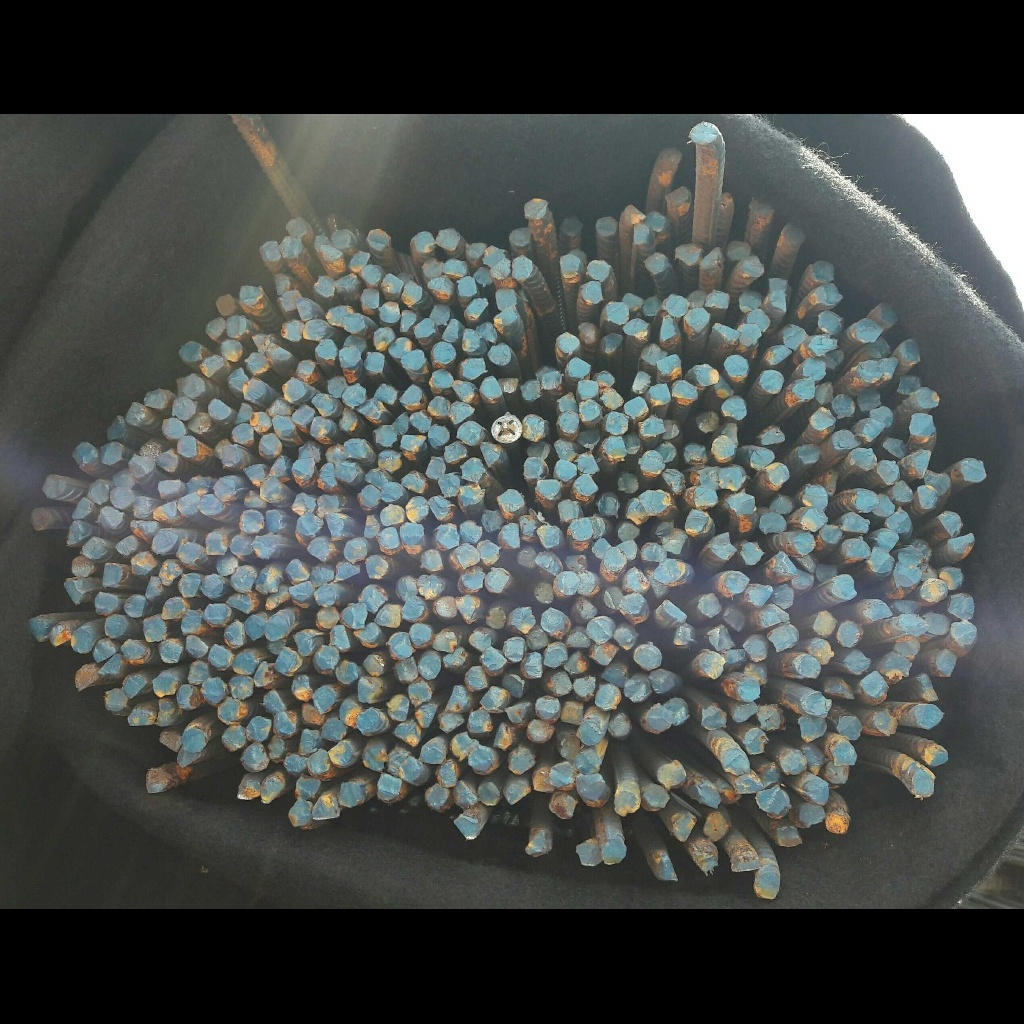dipstick: (217, 697, 247, 726), (377, 773, 406, 803), (769, 623, 799, 652), (327, 739, 355, 768), (756, 788, 786, 815), (580, 781, 610, 807), (241, 743, 268, 771), (905, 450, 932, 478), (948, 592, 975, 620), (273, 710, 299, 739), (361, 584, 387, 613), (798, 715, 827, 741), (655, 559, 685, 584), (672, 812, 697, 842), (296, 512, 323, 539), (75, 663, 101, 691), (221, 724, 247, 752), (374, 603, 402, 629), (468, 746, 496, 772), (549, 763, 577, 789), (260, 775, 285, 804), (801, 693, 831, 717), (246, 716, 272, 743), (357, 708, 384, 734), (388, 632, 414, 659), (549, 793, 576, 819), (658, 762, 685, 788), (723, 748, 750, 774), (924, 470, 951, 496), (594, 684, 622, 709), (699, 651, 724, 679), (659, 601, 687, 626), (937, 510, 962, 538), (288, 798, 312, 827), (481, 686, 507, 712), (576, 839, 602, 865), (759, 704, 785, 730), (710, 533, 736, 559), (527, 829, 552, 856), (426, 783, 451, 810), (362, 745, 387, 772), (458, 483, 485, 508), (508, 749, 535, 774), (603, 547, 628, 574), (634, 644, 661, 669), (692, 842, 717, 869), (744, 634, 769, 661), (950, 620, 977, 645), (338, 783, 366, 807), (452, 733, 476, 761), (642, 490, 670, 514), (920, 578, 948, 602), (760, 604, 790, 626), (73, 441, 98, 467), (358, 677, 384, 702), (587, 618, 613, 643), (647, 705, 673, 730), (794, 654, 820, 679), (805, 779, 830, 805), (872, 709, 897, 735), (885, 509, 911, 534), (915, 704, 941, 729), (232, 565, 256, 592), (122, 640, 149, 664), (121, 674, 148, 698), (209, 643, 233, 670), (229, 674, 253, 701), (405, 495, 429, 522), (457, 421, 484, 445), (511, 607, 535, 634), (541, 607, 565, 634), (536, 551, 563, 575), (498, 489, 525, 513), (624, 567, 651, 591), (862, 672, 889, 696), (307, 539, 335, 562), (457, 594, 480, 622), (590, 642, 618, 665), (854, 319, 882, 342), (857, 418, 885, 441), (705, 812, 727, 841), (809, 335, 838, 357), (227, 593, 257, 614), (265, 509, 290, 534), (454, 815, 479, 840), (342, 382, 367, 407), (417, 574, 442, 599), (481, 647, 506, 672), (602, 839, 627, 864), (758, 762, 783, 787), (672, 380, 697, 405), (869, 548, 894, 573), (837, 621, 862, 646), (202, 677, 226, 703), (177, 684, 201, 710), (313, 687, 337, 713), (275, 649, 299, 675), (331, 626, 357, 650), (285, 559, 309, 585), (460, 458, 486, 482), (803, 484, 827, 510), (844, 649, 870, 673), (237, 772, 260, 799), (343, 602, 366, 629), (437, 710, 464, 733), (526, 720, 553, 743), (523, 415, 546, 442), (727, 493, 754, 516), (800, 508, 827, 531), (808, 637, 831, 664), (309, 749, 331, 777), (455, 780, 477, 808), (849, 448, 877, 470), (899, 614, 927, 636), (225, 620, 246, 649), (131, 552, 156, 576), (199, 574, 223, 599), (182, 728, 207, 752), (296, 775, 320, 800), (292, 493, 317, 517), (399, 757, 423, 782), (446, 685, 470, 710), (576, 750, 601, 774), (544, 642, 568, 667), (754, 875, 779, 899), (708, 625, 733, 649), (724, 607, 749, 631), (625, 498, 649, 523), (718, 466, 743, 490), (759, 370, 784, 394), (774, 552, 798, 577), (833, 574, 857, 599), (836, 716, 861, 740), (800, 803, 825, 827), (885, 652, 909, 677), (420, 741, 446, 764), (429, 496, 452, 522), (504, 781, 530, 804), (667, 698, 690, 724), (685, 510, 708, 536), (817, 311, 843, 334), (204, 604, 231, 626), (920, 675, 942, 702), (690, 123, 718, 144), (841, 513, 869, 534), (731, 850, 760, 870), (913, 769, 933, 798), (143, 618, 167, 642), (146, 768, 170, 792), (263, 690, 287, 714), (316, 645, 340, 669), (335, 660, 359, 684), (282, 378, 306, 402), (396, 722, 420, 746), (436, 524, 460, 548), (640, 450, 664, 474), (662, 529, 686, 553), (626, 678, 650, 702), (651, 669, 675, 693), (614, 791, 638, 815), (204, 531, 227, 556), (240, 510, 265, 533), (177, 573, 200, 598), (71, 628, 94, 653), (431, 342, 456, 365), (457, 543, 480, 568), (468, 710, 493, 733), (464, 666, 489, 689), (486, 569, 511, 592), (578, 721, 603, 744), (524, 457, 549, 480), (604, 435, 627, 460), (644, 784, 669, 807), (702, 706, 727, 729), (663, 470, 686, 495), (832, 394, 855, 419), (844, 537, 869, 560), (824, 760, 849, 783), (961, 458, 986, 481), (97, 506, 123, 528), (161, 597, 187, 619), (387, 696, 409, 722), (429, 277, 455, 299), (436, 760, 458, 786), (326, 305, 352, 327), (521, 652, 543, 678), (537, 367, 563, 389), (745, 728, 767, 754), (714, 323, 740, 345), (935, 650, 956, 677), (292, 673, 312, 701), (893, 567, 921, 587), (182, 374, 205, 398), (130, 455, 154, 478), (42, 475, 65, 499), (181, 611, 204, 635), (105, 615, 129, 638), (160, 729, 183, 753), (260, 478, 283, 502), (344, 538, 367, 562), (437, 228, 461, 251), (433, 629, 457, 652), (480, 376, 503, 400), (557, 571, 580, 595), (537, 525, 560, 549), (578, 322, 601, 346), (606, 301, 629, 325), (609, 713, 632, 737), (697, 784, 721, 807), (765, 464, 789, 487), (684, 444, 708, 467), (711, 435, 735, 458), (816, 283, 840, 306), (833, 741, 856, 765), (939, 567, 963, 590), (151, 530, 176, 552), (95, 592, 117, 617), (153, 674, 178, 696), (244, 614, 266, 639), (266, 616, 288, 641), (232, 422, 254, 447), (373, 326, 395, 351), (419, 654, 441, 679), (464, 298, 489, 320), (724, 572, 749, 594), (750, 449, 775, 471), (722, 397, 747, 419), (685, 308, 710, 330), (746, 310, 771, 332), (781, 752, 806, 774), (877, 460, 899, 485), (198, 495, 224, 516), (64, 578, 85, 604), (232, 653, 258, 674), (314, 798, 340, 819), (401, 473, 427, 494), (396, 575, 417, 601), (641, 344, 667, 365), (760, 512, 786, 533), (909, 414, 935, 435), (864, 600, 891, 620), (156, 449, 179, 472), (29, 507, 52, 530), (29, 618, 52, 641), (290, 580, 313, 603), (366, 555, 389, 578), (536, 697, 559, 720), (566, 651, 589, 674), (570, 518, 593, 541), (495, 306, 518, 329), (783, 326, 806, 349), (855, 489, 878, 512), (172, 398, 196, 420), (110, 487, 134, 509), (159, 641, 183, 663), (272, 416, 296, 438), (343, 439, 367, 461), (393, 658, 417, 680), (453, 380, 477, 402), (561, 702, 583, 726), (656, 857, 678, 881), (738, 678, 760, 702), (724, 355, 748, 377), (875, 302, 899, 324), (811, 407, 835, 429), (814, 611, 836, 635), (897, 546, 921, 568), (926, 612, 950, 634), (924, 744, 948, 766), (200, 355, 225, 376), (268, 342, 293, 363), (106, 415, 127, 440), (161, 418, 186, 439), (153, 501, 178, 522), (124, 593, 145, 618), (257, 572, 282, 593), (318, 463, 339, 488), (478, 541, 499, 566), (624, 318, 649, 339), (640, 415, 665, 436), (917, 485, 938, 510), (143, 388, 169, 408), (326, 514, 346, 540), (536, 479, 562, 499), (766, 345, 792, 365), (833, 430, 860, 449), (226, 315, 248, 338), (188, 412, 211, 434), (178, 493, 201, 515), (230, 534, 253, 556), (105, 689, 128, 711), (322, 719, 345, 741), (260, 434, 283, 456), (381, 504, 404, 526), (378, 450, 401, 472), (421, 549, 444, 571), (413, 318, 436, 340), (408, 680, 430, 703), (460, 520, 482, 543), (488, 343, 511, 365), (549, 671, 571, 694), (699, 593, 721, 616), (740, 542, 762, 565), (696, 364, 719, 386), (792, 378, 815, 400), (870, 405, 892, 428), (793, 532, 815, 555), (281, 320, 305, 341), (81, 537, 105, 558), (127, 708, 155, 726), (293, 632, 314, 656), (219, 445, 243, 466), (359, 485, 380, 509), (366, 229, 390, 250), (382, 272, 403, 296), (388, 338, 412, 359), (479, 782, 500, 806), (503, 674, 524, 698), (565, 627, 589, 648), (555, 440, 579, 461), (567, 357, 591, 378), (677, 244, 701, 265), (695, 410, 719, 431), (748, 585, 772, 606), (773, 584, 794, 608), (916, 387, 940, 408), (68, 519, 88, 544), (103, 563, 123, 588), (402, 282, 422, 307), (481, 442, 501, 467), (504, 637, 524, 662), (810, 261, 835, 281), (736, 774, 762, 793), (129, 520, 158, 537), (280, 290, 302, 312), (133, 496, 155, 518), (315, 339, 337, 361), (360, 264, 382, 286), (374, 384, 396, 406), (577, 452, 599, 474), (606, 412, 628, 434), (601, 387, 623, 409), (739, 290, 761, 312), (804, 358, 826, 380), (239, 286, 262, 307), (180, 341, 203, 362), (227, 368, 248, 391), (244, 378, 265, 401), (208, 398, 231, 419), (177, 541, 200, 562), (72, 556, 95, 577), (185, 637, 208, 658), (188, 662, 211, 683), (316, 607, 339, 628), (314, 586, 337, 607), (254, 536, 275, 559), (292, 458, 315, 479), (379, 527, 400, 550), (400, 523, 423, 544), (339, 345, 360, 368), (360, 398, 383, 419), (374, 425, 397, 446), (401, 597, 424, 618), (416, 704, 437, 727), (444, 442, 467, 463), (451, 402, 474, 423), (476, 322, 497, 345), (575, 474, 598, 495), (598, 493, 619, 516), (578, 400, 601, 421), (496, 288, 517, 311), (559, 255, 580, 278), (587, 260, 610, 281), (666, 186, 689, 207), (667, 294, 688, 317), (620, 593, 643, 614), (738, 323, 761, 344), (952, 533, 975, 554), (402, 350, 426, 370), (443, 647, 467, 667), (426, 456, 446, 480), (462, 358, 486, 378), (528, 625, 548, 649), (511, 256, 531, 280), (658, 354, 682, 374), (624, 397, 648, 417), (642, 542, 666, 562), (694, 487, 718, 507), (857, 389, 881, 409), (874, 530, 898, 550), (769, 495, 794, 514), (205, 318, 227, 339), (221, 340, 242, 362), (304, 320, 326, 341), (248, 352, 269, 374), (177, 436, 198, 458), (101, 442, 122, 464), (88, 481, 109, 503), (214, 478, 236, 499), (50, 625, 71, 647), (335, 462, 357, 483), (326, 377, 348, 398), (462, 567, 484, 588), (409, 624, 431, 645), (364, 654, 385, 676), (428, 425, 450, 446), (331, 230, 353, 251), (483, 246, 505, 267), (482, 509, 503, 531), (485, 607, 506, 629), (533, 770, 554, 792), (556, 459, 577, 481), (558, 411, 579, 433), (557, 333, 579, 354), (596, 216, 618, 237), (614, 628, 635, 650), (820, 524, 842, 545), (873, 494, 894, 516), (892, 480, 913, 502), (279, 238, 302, 258), (93, 641, 116, 661), (292, 406, 315, 426), (524, 198, 547, 218), (700, 248, 723, 268), (728, 240, 751, 260), (603, 667, 626, 687), (783, 223, 806, 243), (859, 360, 882, 380), (826, 813, 849, 833), (883, 438, 906, 458), (380, 482, 404, 501), (443, 259, 467, 278), (402, 434, 426, 453), (897, 375, 921, 394), (158, 479, 183, 497), (495, 723, 512, 749), (314, 275, 335, 296), (72, 497, 93, 518), (359, 622, 380, 643), (410, 411, 431, 432), (350, 251, 371, 272), (743, 255, 764, 276), (792, 569, 813, 590), (217, 294, 237, 316), (126, 402, 146, 424), (250, 412, 272, 432), (365, 351, 385, 373), (415, 231, 435, 253), (436, 596, 458, 616), (439, 474, 459, 496), (506, 704, 528, 724), (575, 676, 595, 698), (578, 572, 598, 594), (601, 333, 623, 353), (580, 282, 602, 302), (618, 521, 640, 541), (674, 623, 694, 645), (798, 443, 820, 463), (286, 218, 309, 237), (341, 313, 364, 332), (468, 631, 491, 650), (645, 253, 668, 272), (604, 587, 623, 610), (777, 827, 800, 846), (867, 338, 890, 357), (462, 328, 480, 352), (660, 317, 678, 341), (895, 641, 920, 658), (116, 535, 137, 555), (216, 555, 237, 575), (245, 466, 265, 487), (360, 288, 380, 309), (380, 302, 400, 323), (577, 597, 597, 618), (558, 500, 579, 520), (521, 380, 541, 401), (557, 393, 578, 413), (577, 380, 598, 400), (634, 223, 654, 244), (649, 384, 670, 404), (618, 472, 639, 492), (900, 340, 920, 361), (311, 416, 330, 438), (320, 245, 342, 264), (366, 469, 388, 488), (400, 385, 422, 404), (428, 396, 450, 415), (632, 371, 651, 393), (297, 358, 315, 381), (527, 441, 550, 459), (706, 290, 729, 308), (503, 523, 520, 547), (751, 200, 775, 217), (761, 427, 785, 444), (422, 259, 442, 279), (534, 582, 554, 602), (625, 204, 645, 224), (643, 296, 663, 316), (260, 242, 281, 261), (518, 547, 537, 568), (492, 259, 511, 280), (661, 146, 682, 165), (645, 212, 666, 231), (296, 299, 314, 321), (431, 370, 454, 387), (561, 217, 581, 236), (592, 539, 611, 559), (429, 305, 450, 323), (769, 291, 787, 312), (274, 273, 291, 295), (509, 229, 531, 246), (442, 319, 458, 342), (458, 277, 477, 296), (363, 515, 378, 539), (594, 371, 615, 388), (566, 555, 588, 571), (734, 705, 756, 721), (235, 403, 253, 422), (475, 266, 493, 285), (623, 293, 642, 311), (466, 243, 486, 260), (817, 383, 833, 404), (663, 419, 679, 438), (688, 291, 704, 309)
